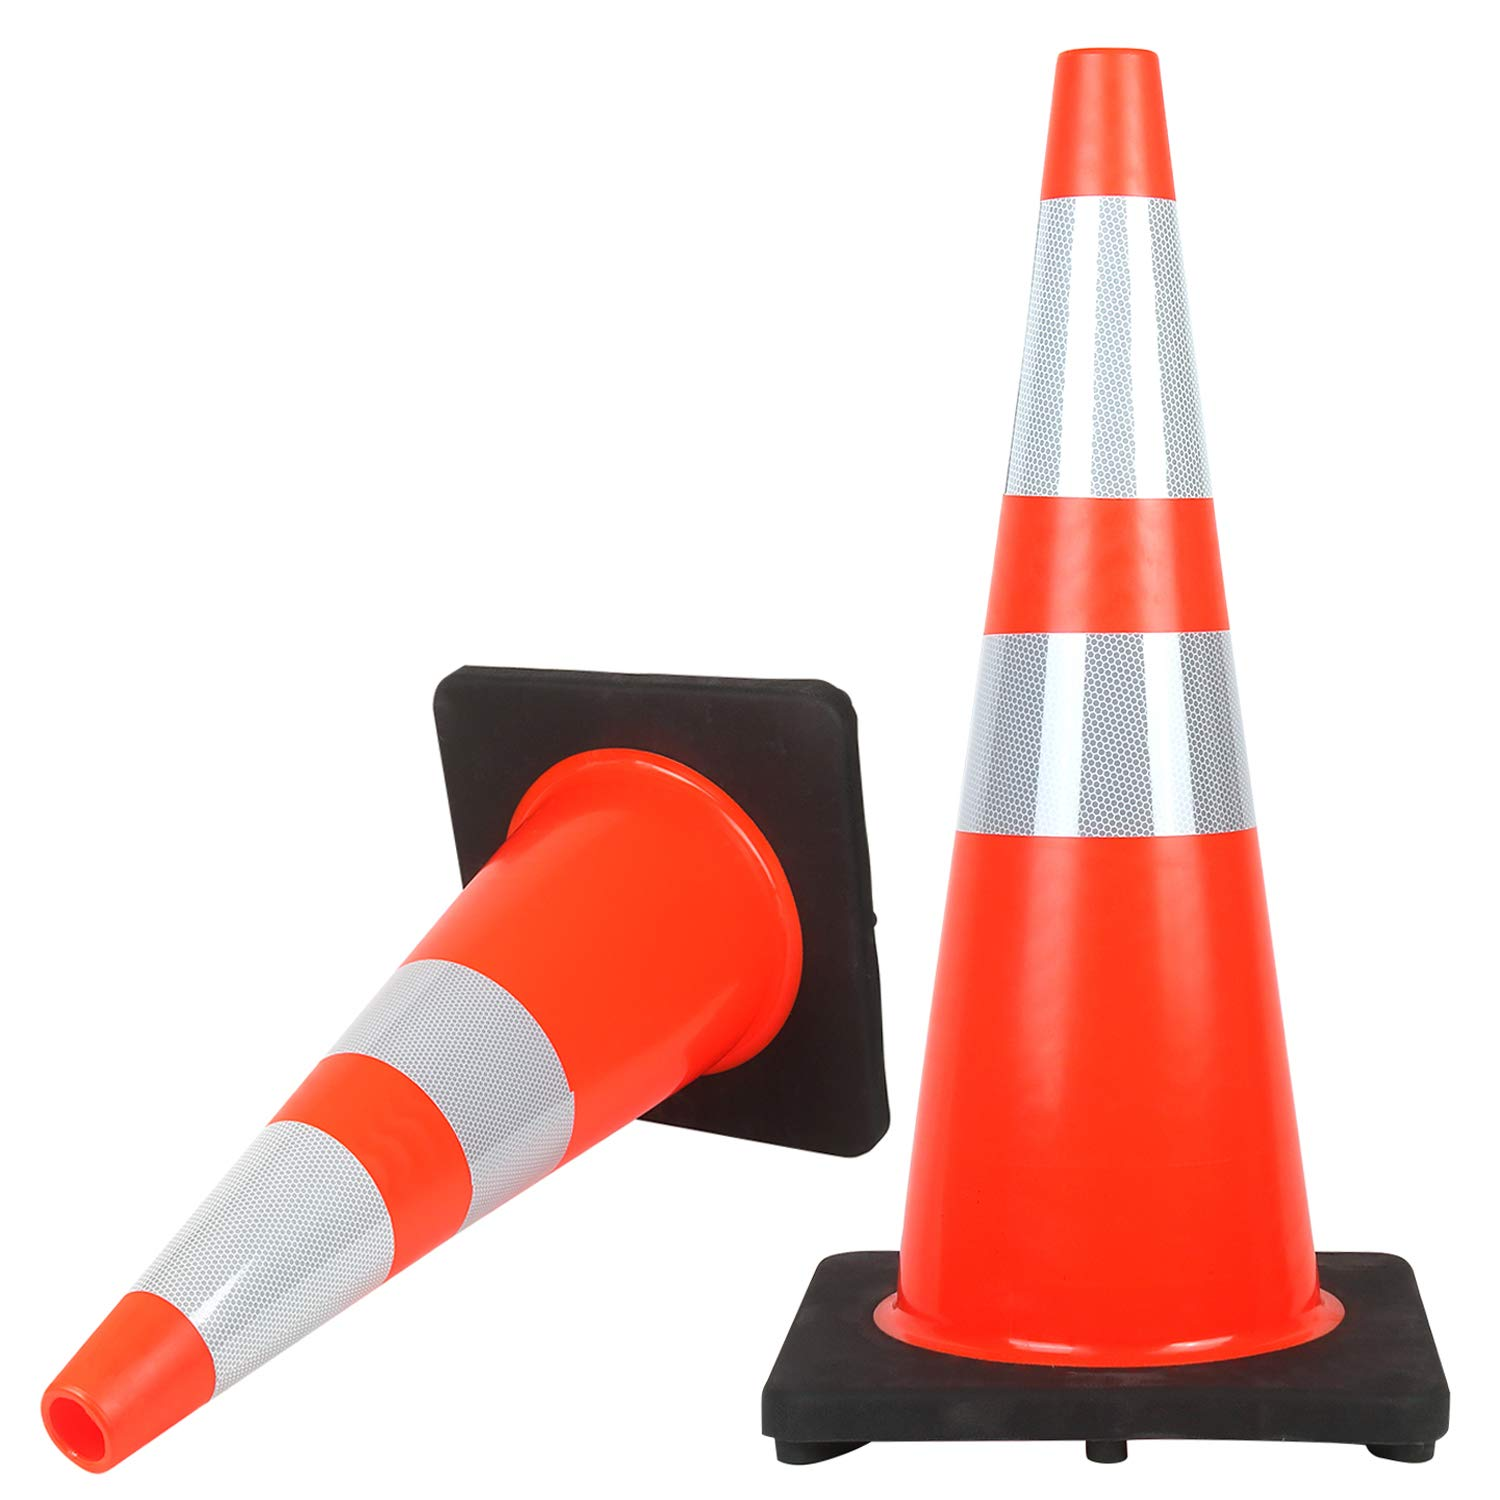cones: (784, 36, 1466, 1473), (36, 659, 905, 1490)
